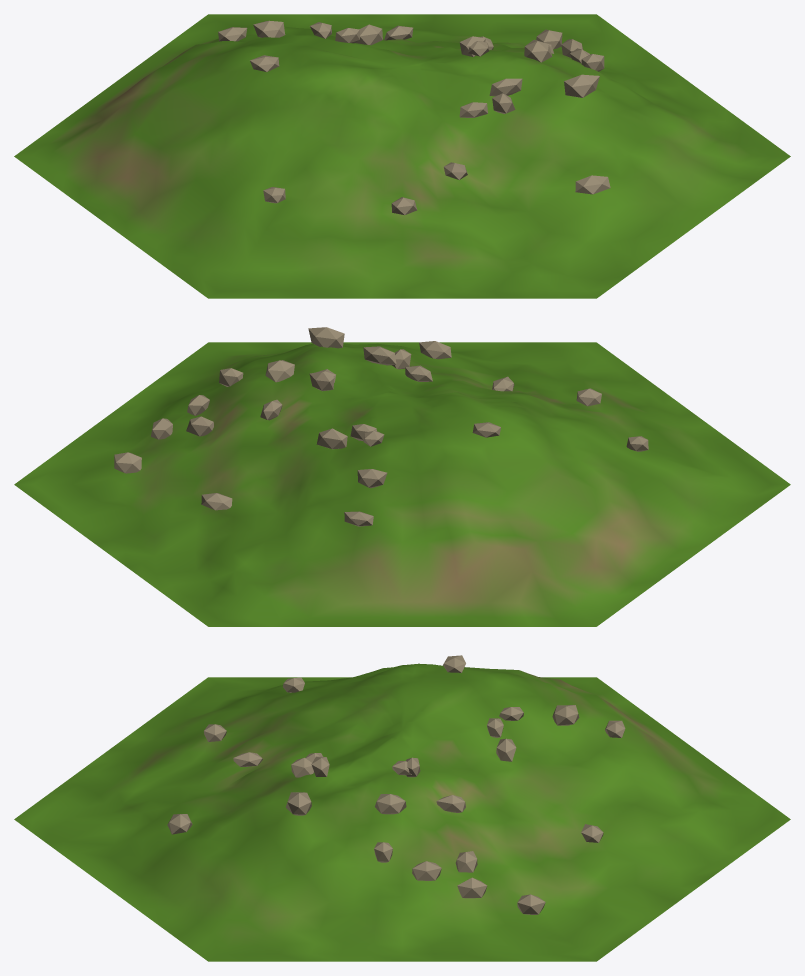
Rendered from SM_Terreno_Colina_LOD1.fbx.
3 views of the same model, one above another, from view 1: azimuth 30°, elevation 25°; view 2: azimuth 150°, elevation 25°; view 3: azimuth 270°, elevation 25° (orthographic).
Visible parts, largest first — view 1: SM_Terreno_Colina_LOD1; view 2: SM_Terreno_Colina_LOD1; view 3: SM_Terreno_Colina_LOD1.
Boxes of the visible parts, x1,y1,x2,y2 form: SM_Terreno_Colina_LOD1: [14, 14, 790, 298]; SM_Terreno_Colina_LOD1: [14, 327, 790, 626]; SM_Terreno_Colina_LOD1: [14, 655, 790, 961].
Size of the model in its own units: 173 by 30.52 by 200.
